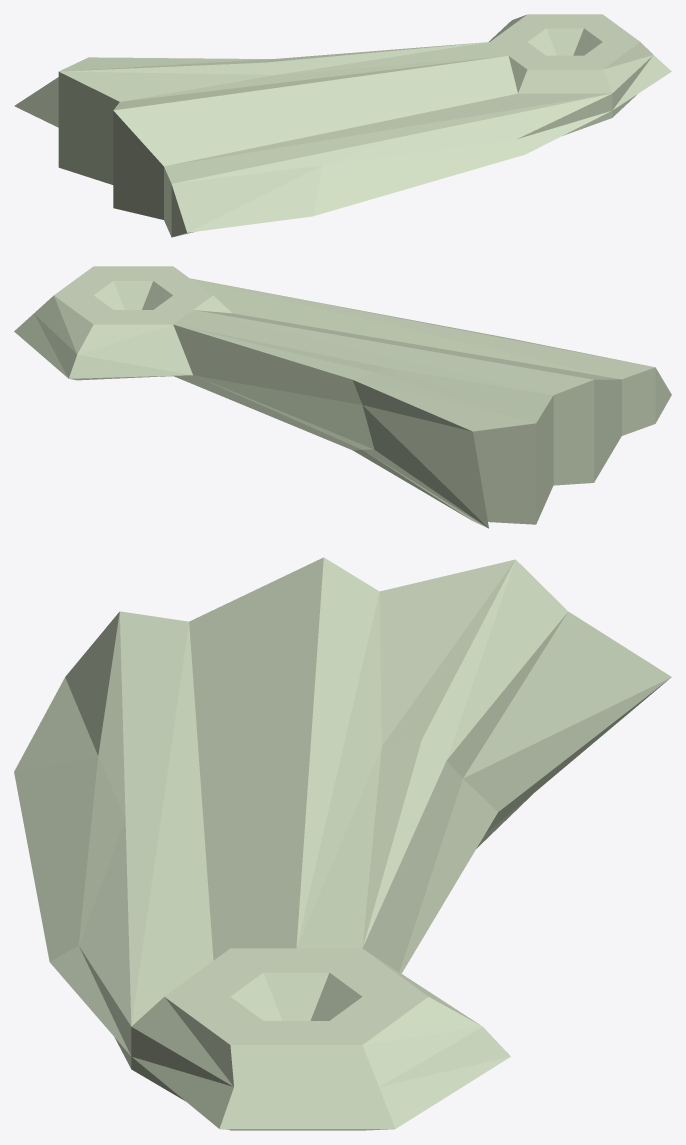
Rendered from Cloth.fbx.
The picture shows the model from 3 angles, top to bottom: view 1: azimuth 30°, elevation 25°; view 2: azimuth 150°, elevation 25°; view 3: azimuth 270°, elevation 25°; orthographic projection. The views are drawn at different scales.
Visible parts, largest first — view 1: Cloth; view 2: Cloth; view 3: Cloth.
Boxes of the visible parts, left/top/right/bottom form: Cloth: left=14, top=14, right=671, bottom=237; Cloth: left=14, top=266, right=671, bottom=528; Cloth: left=14, top=557, right=671, bottom=1130.
Size of the model in its own units: 0.162 by 0.0286 by 0.0996.
